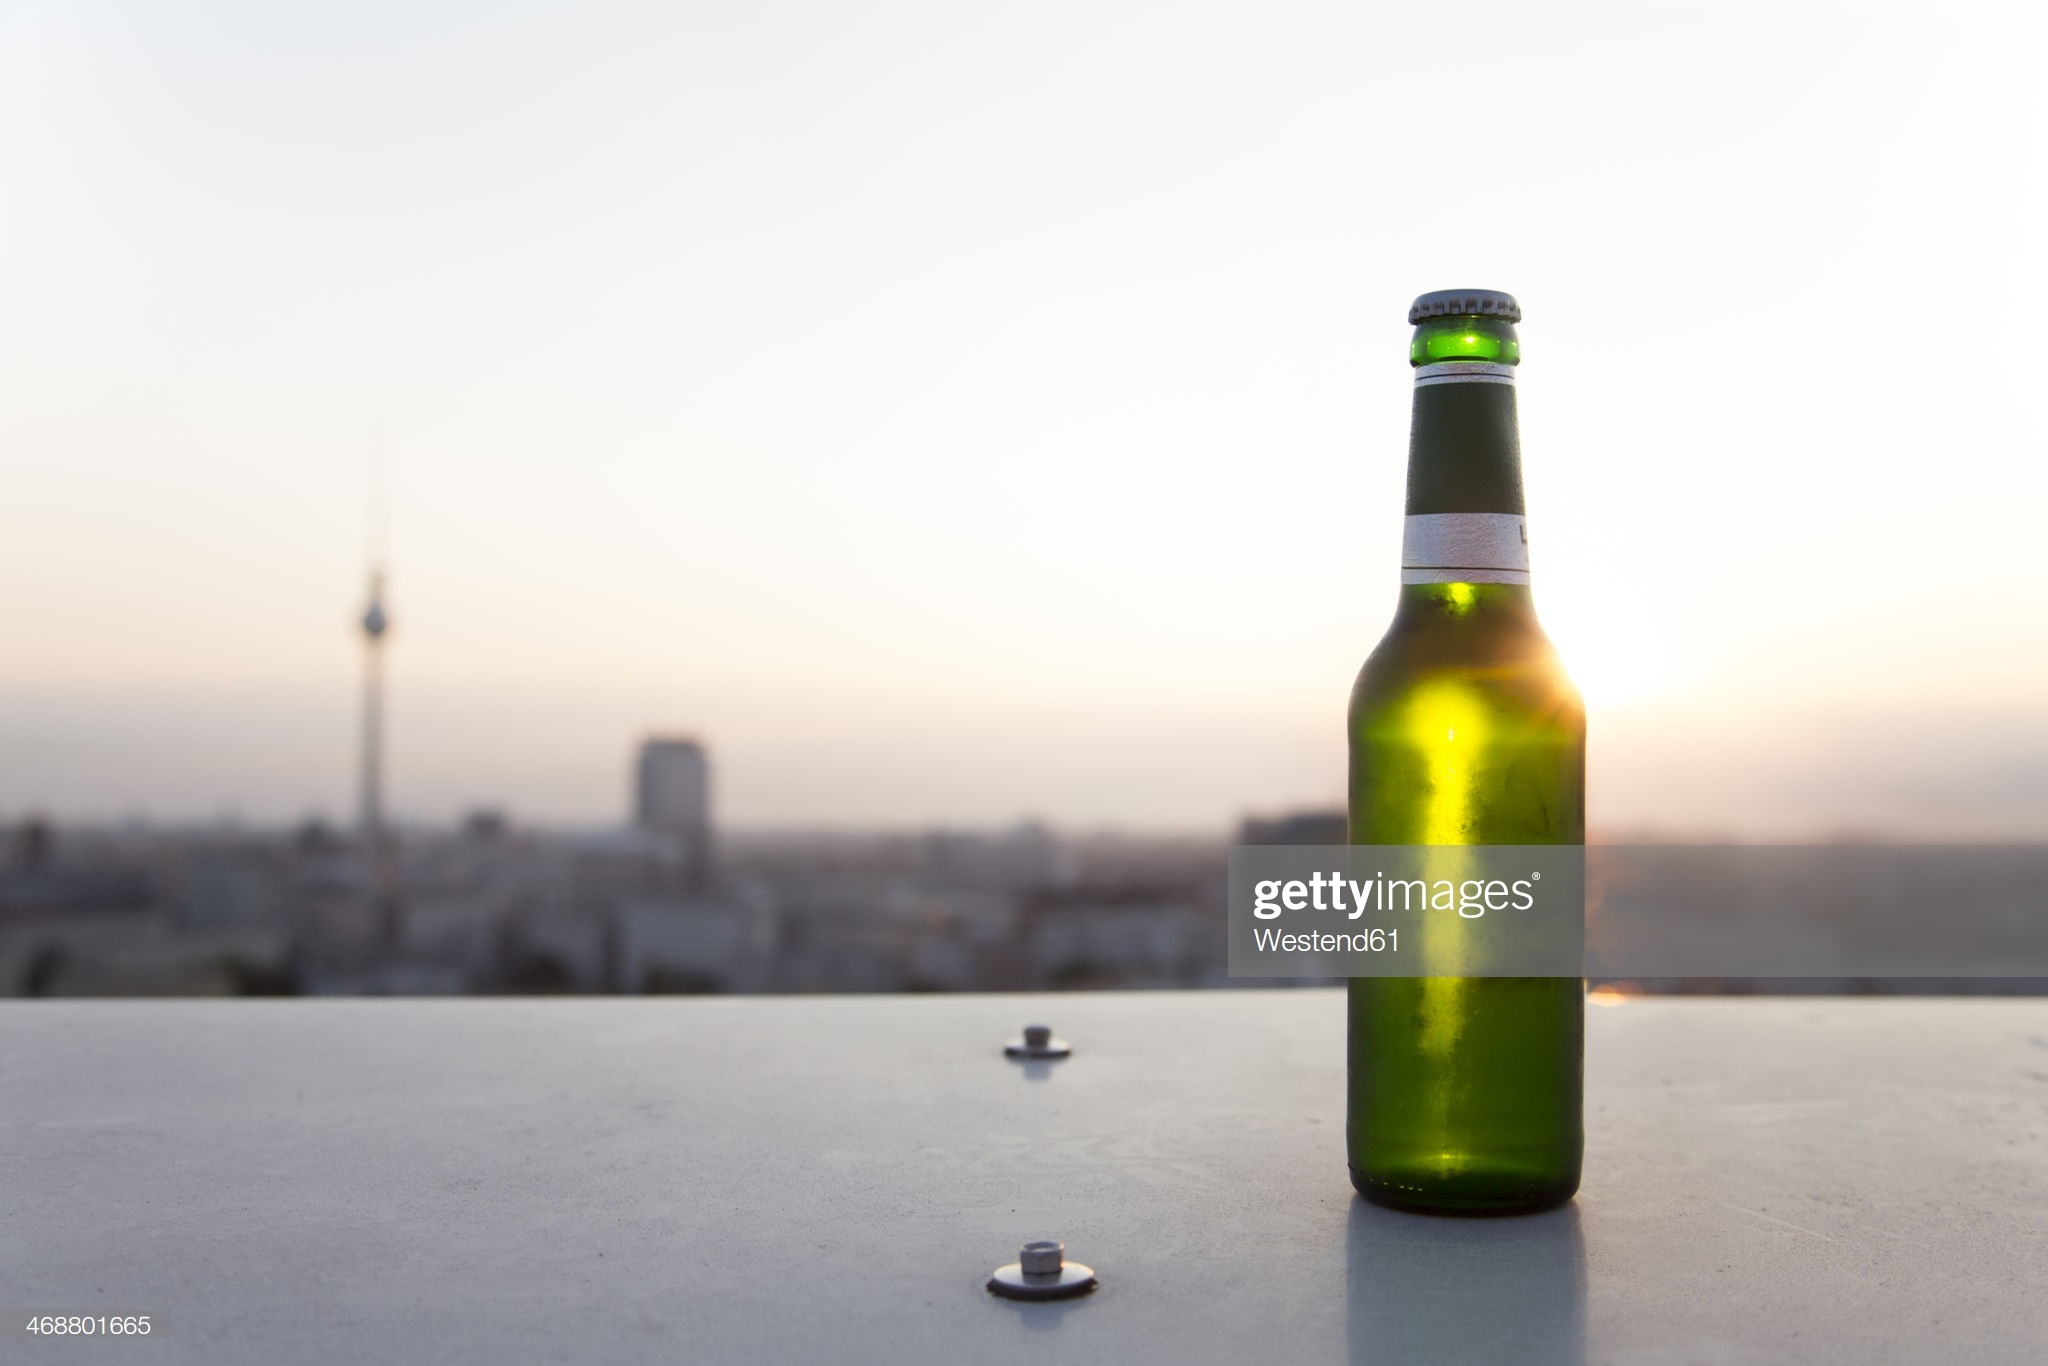beerBottle: (1353, 293, 1592, 1207)
